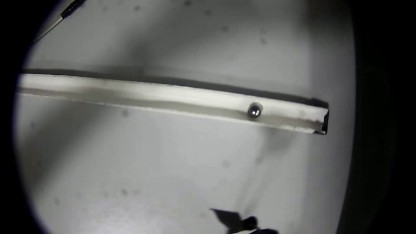gangzhu: (245, 102, 261, 118)
